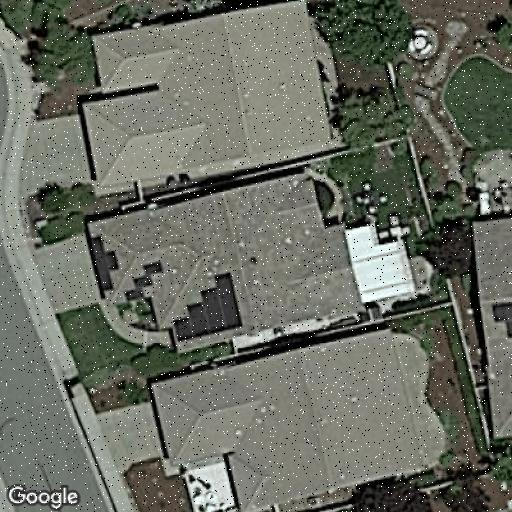solar-panel: (170, 270, 244, 344), (88, 232, 120, 294), (121, 259, 164, 303), (487, 297, 512, 343)
